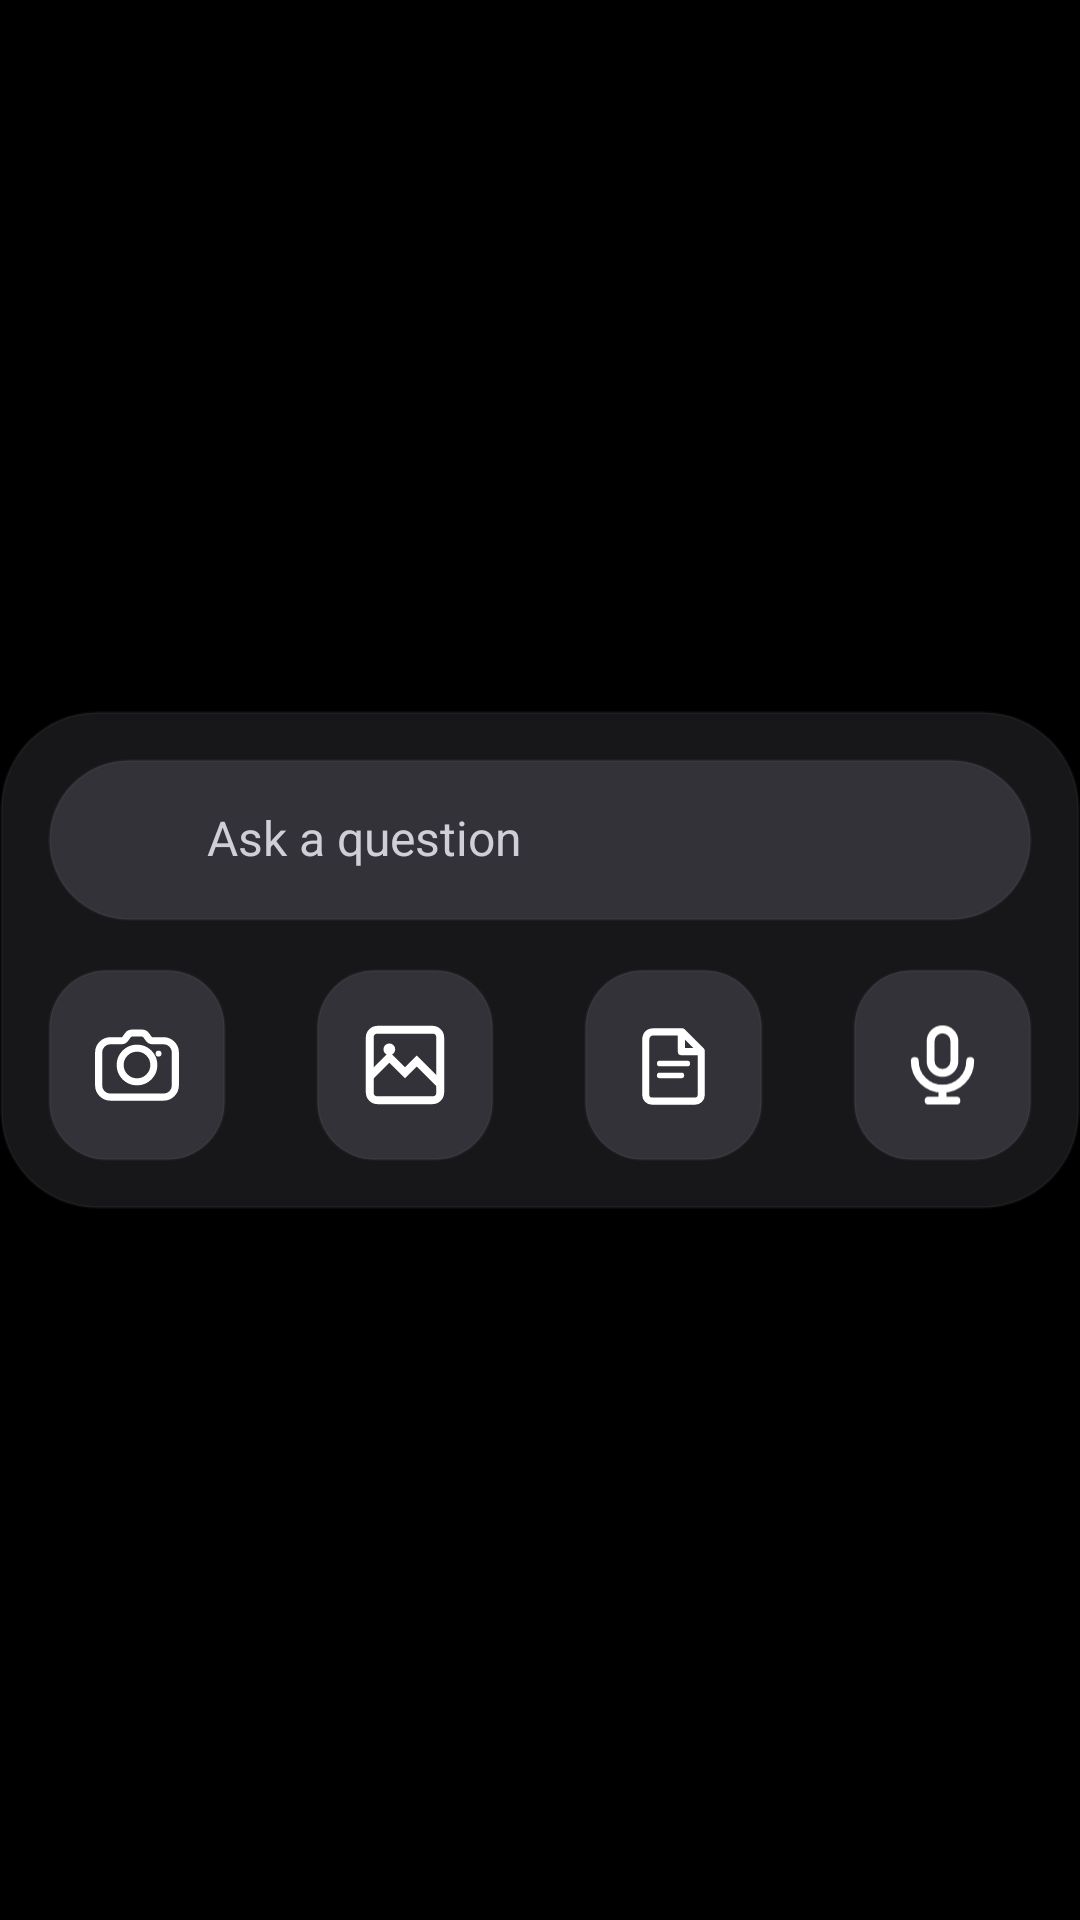

Icons on this 1080x1920 Android screen, each with the point to tap as (x=x, y=y):
Camera: (x=137, y=1065)
Files: (x=673, y=1065)
Microphone: (x=942, y=1065)
Open gallery: (x=405, y=1065)
